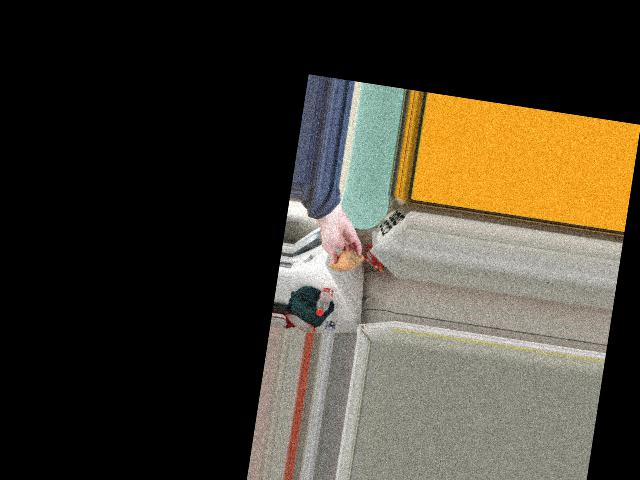sweet_potato: (329, 244, 361, 274)
